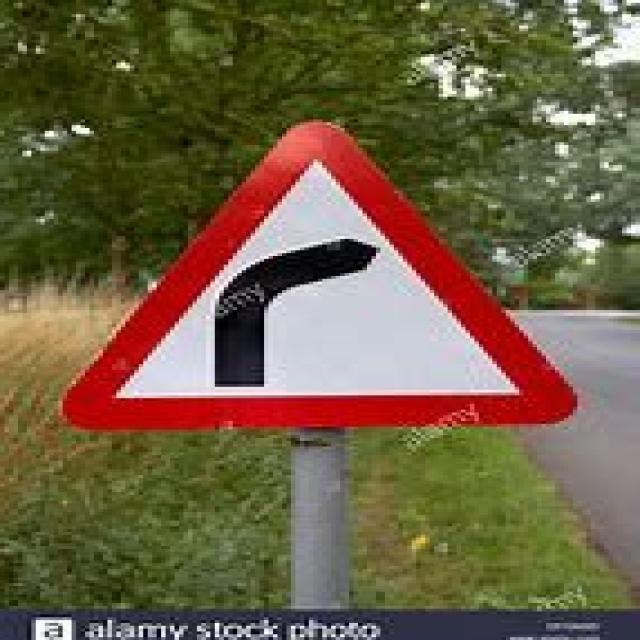RIGHT_HAND_CURVE: (50, 115, 575, 432)
